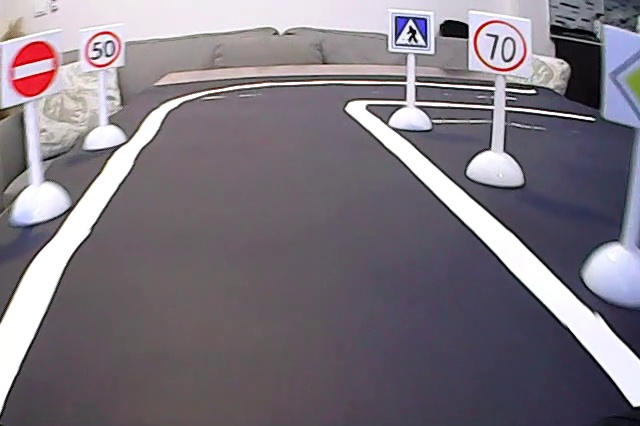do not enter: (7, 30, 58, 103)
pedestrian crossing: (389, 11, 434, 52)
speed limit 50: (82, 31, 128, 71)
speed limit 70: (469, 13, 532, 74)
